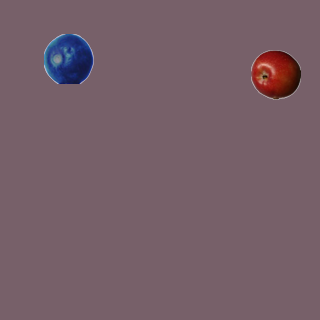Apple Braeburn: (250, 49, 300, 99)
Huckleberry: (43, 33, 93, 83)
